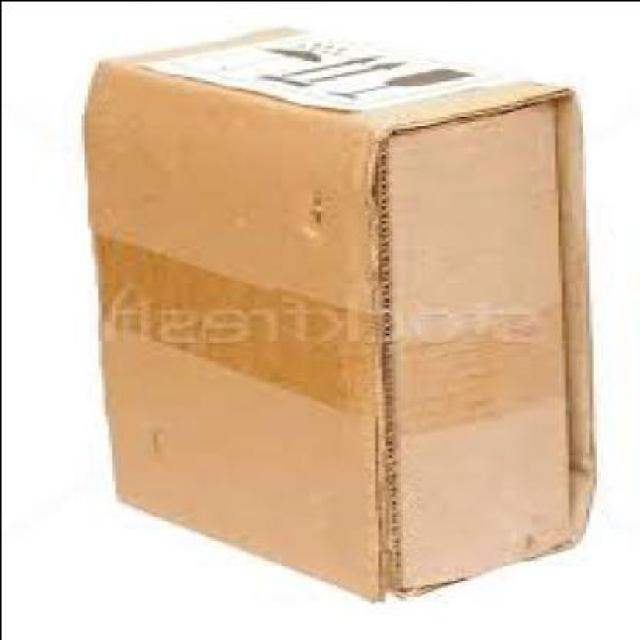CARDBOARD: (86, 23, 599, 595)
